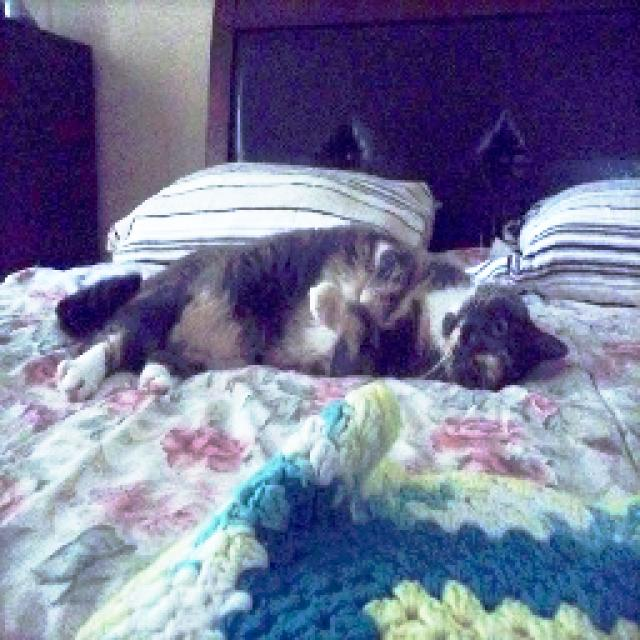cat: (51, 225, 564, 408)
